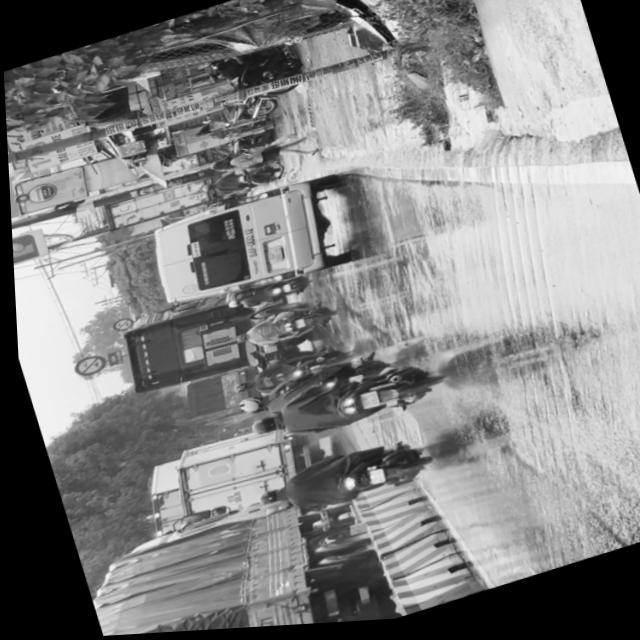helmet: (243, 418, 274, 441), (249, 490, 279, 511)
licenseplate: (236, 355, 442, 461), (242, 431, 434, 532)
nohelmet: (355, 394, 374, 413), (362, 470, 381, 488)
